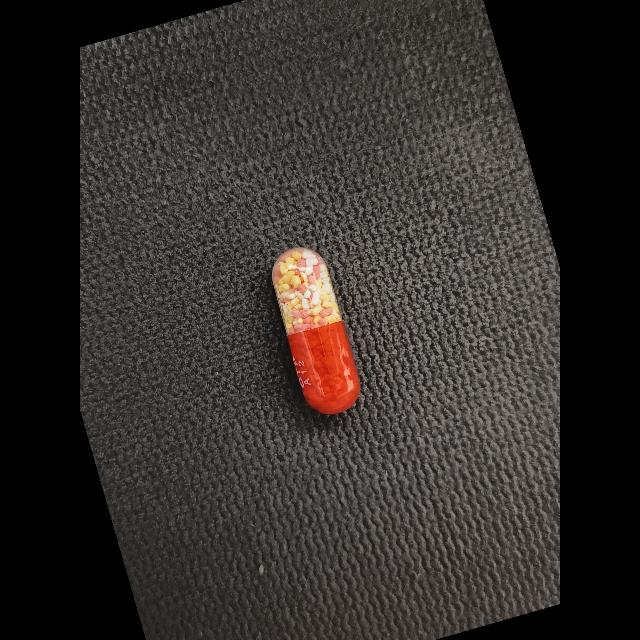Intact Capsule: (272, 247, 360, 414)
